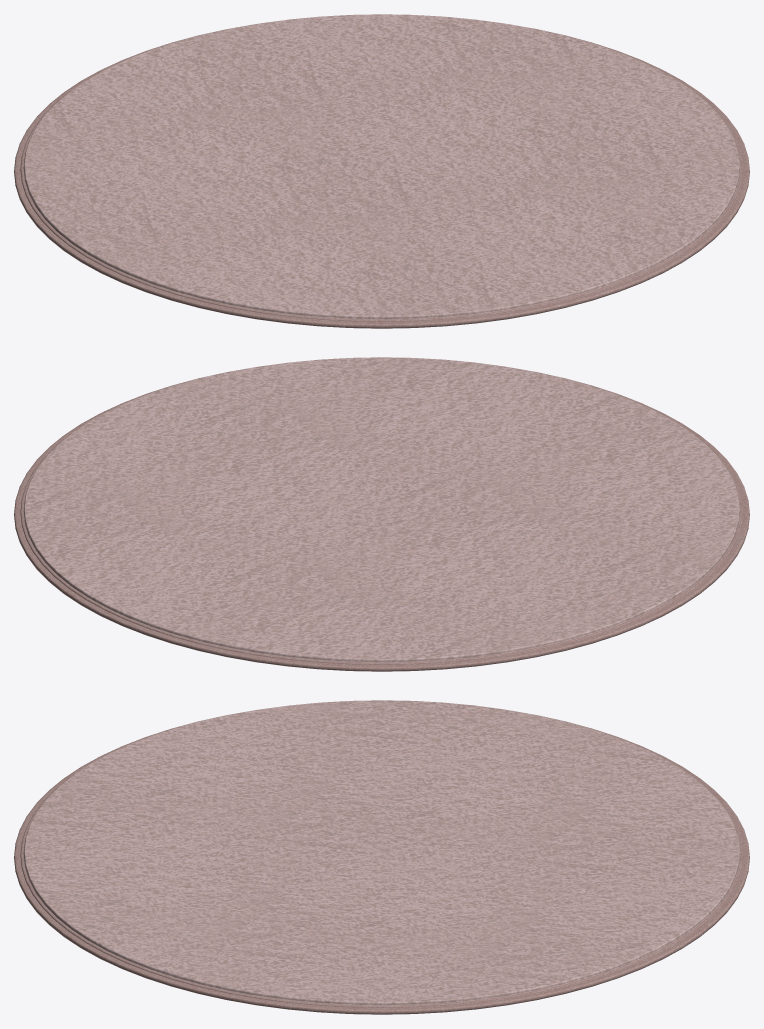
File: rug.gltf
3 renders of one model, top to bottom at view 1: azimuth 30°, elevation 25°; view 2: azimuth 150°, elevation 25°; view 3: azimuth 270°, elevation 25°, orthographic.
Parts seen in each view (by area): view 1: Rug; view 2: Rug; view 3: Rug.
Part boxes in pixels (x1,y1,x2,y2): Rug: (14,14,749,328); Rug: (14,357,749,671); Rug: (14,700,749,1014).
Bounding box in the file's own units: 1.94 × 0.026 × 1.94.
1 material, 1 textured.
